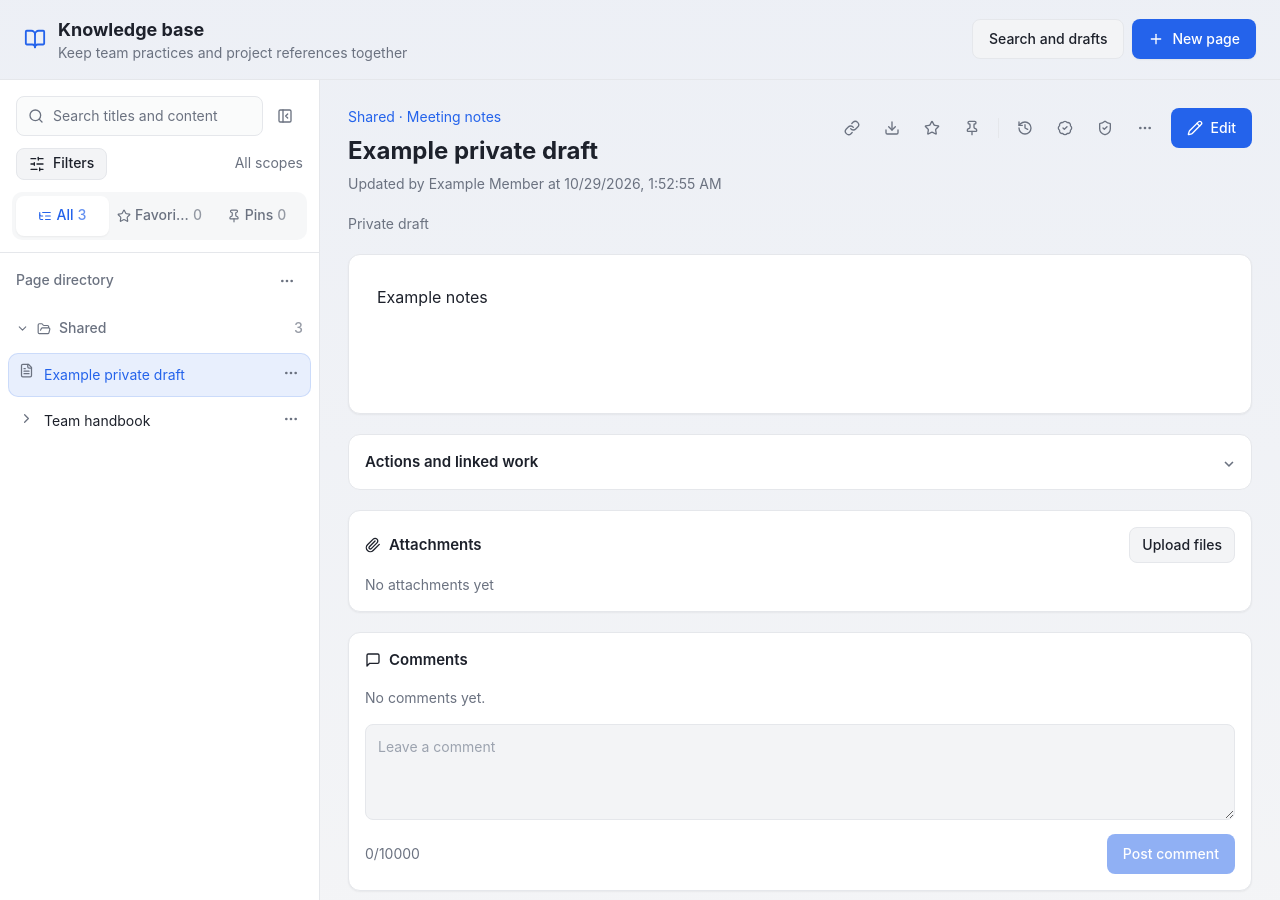
it: refused knowledge page deletion is explained › lets the owner delete an own draft that knowledge work saved
The width and height of the screenshot is (1280, 900).
Check: the heading "Example private draft" is shown, box [348,136,598,165]
Click the button named "More actions". click: point(1145, 128)
box: [1127,110,1163,146]
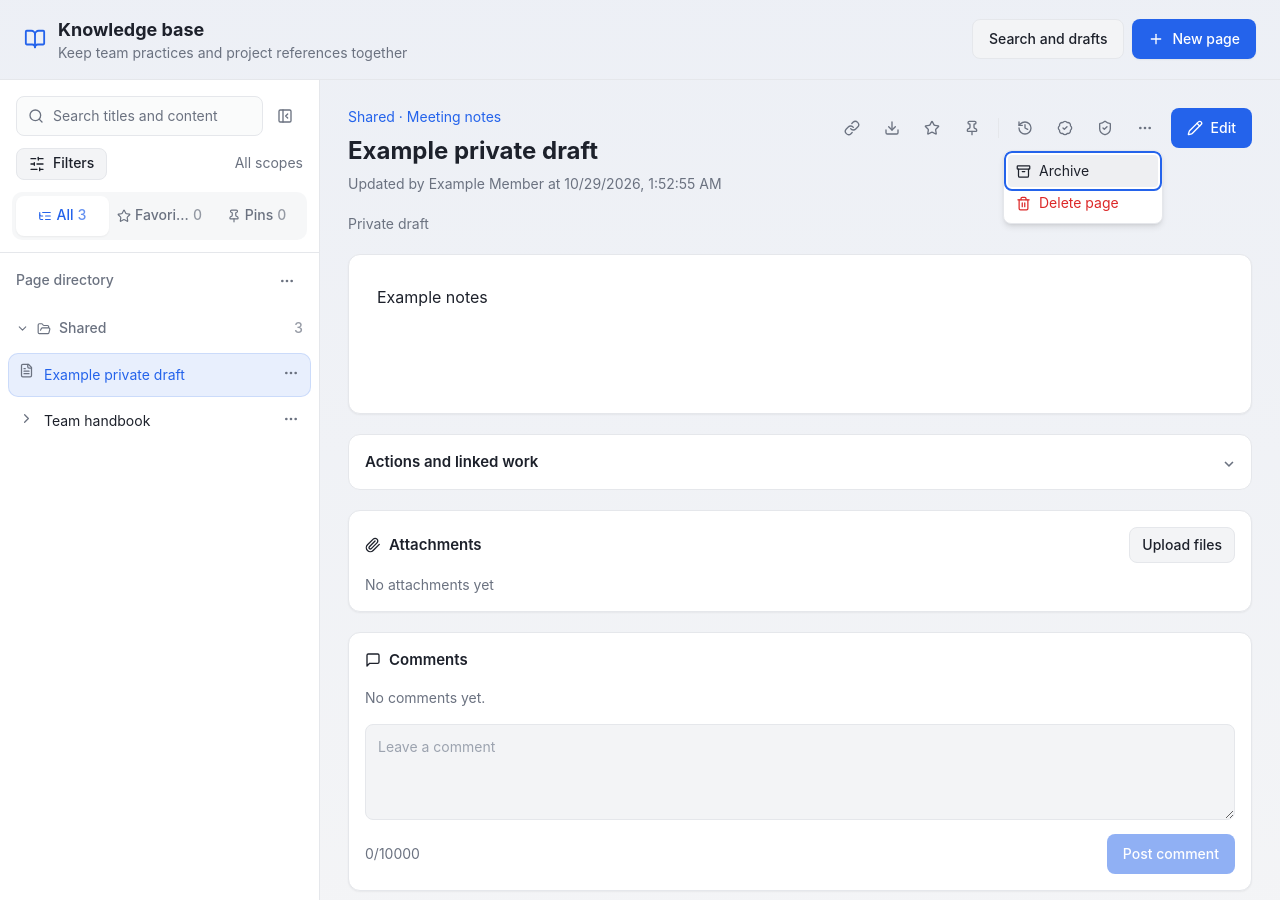
Click the menu item "Delete page". click: point(1083, 203)
box: [1008,187,1158,219]
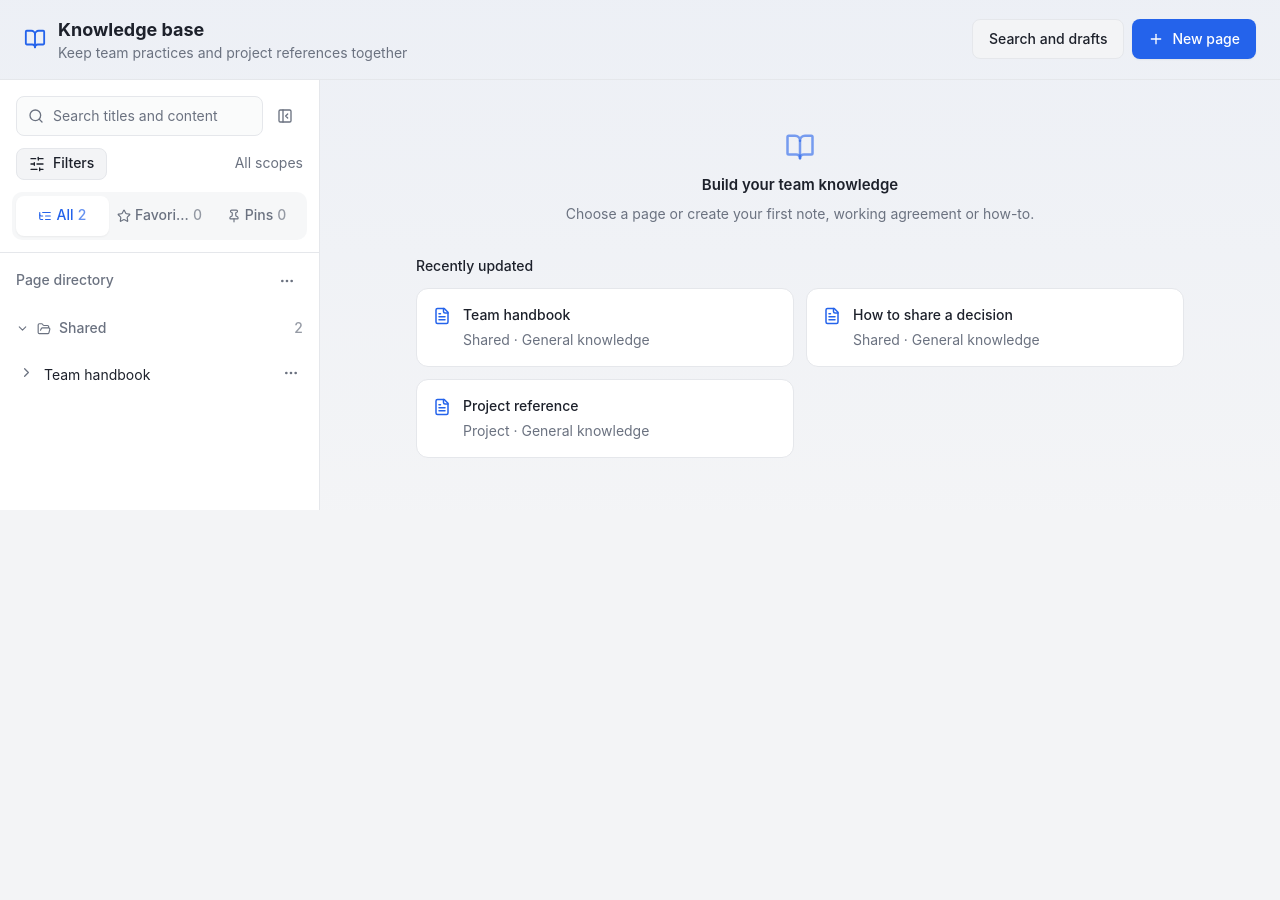
Check: the button "Example private draft" is gone
